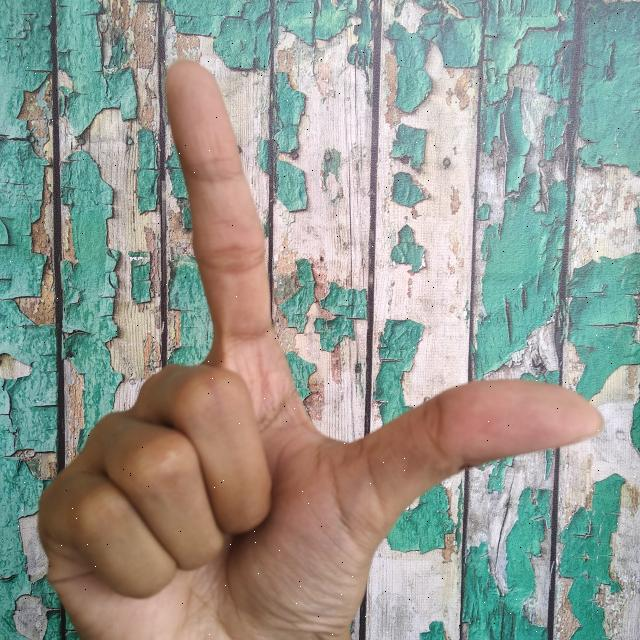L: (33, 54, 612, 640)
